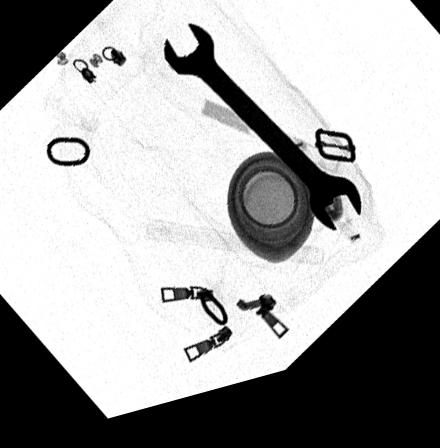Wrench: (162, 33, 363, 253)
